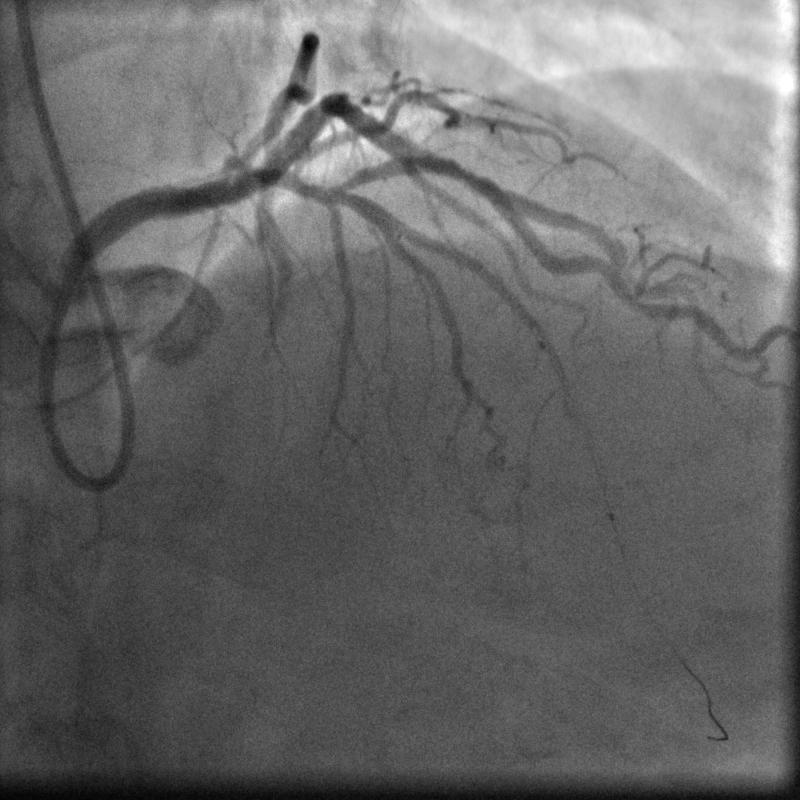Stenosis: (445, 153, 486, 194)
